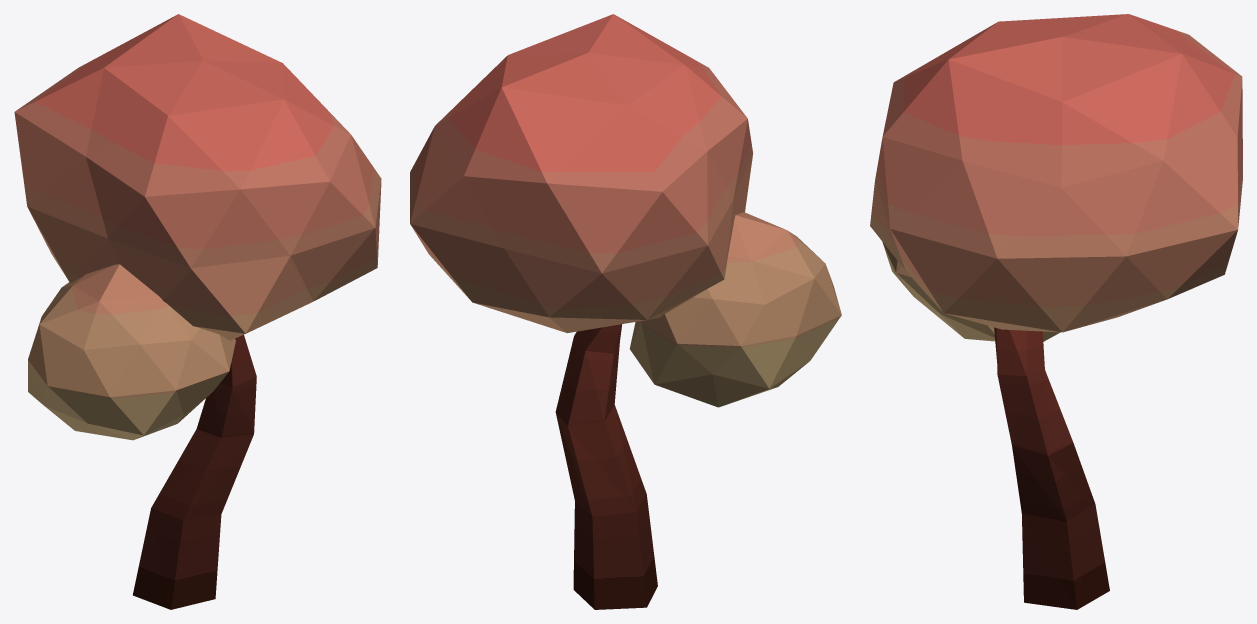
File: Stylized Tree.glb
3 renders of one model, left to right at view 1: azimuth 30°, elevation 25°; view 2: azimuth 150°, elevation 25°; view 3: azimuth 270°, elevation 25°, orthographic. The views are drawn at different scales.
Parts seen in each view (by area): view 1: LeafTree_3; view 2: LeafTree_3; view 3: LeafTree_3.
Boxes of the visible parts, x1=… form: LeafTree_3: x1=14, y1=14, x2=381, y2=609; LeafTree_3: x1=410, y1=14, x2=841, y2=609; LeafTree_3: x1=870, y1=14, x2=1242, y2=609.
Bounding box in the file's own units: 1.06 × 1.51 × 0.8976.
Materials: 1 (1 with a texture image).
